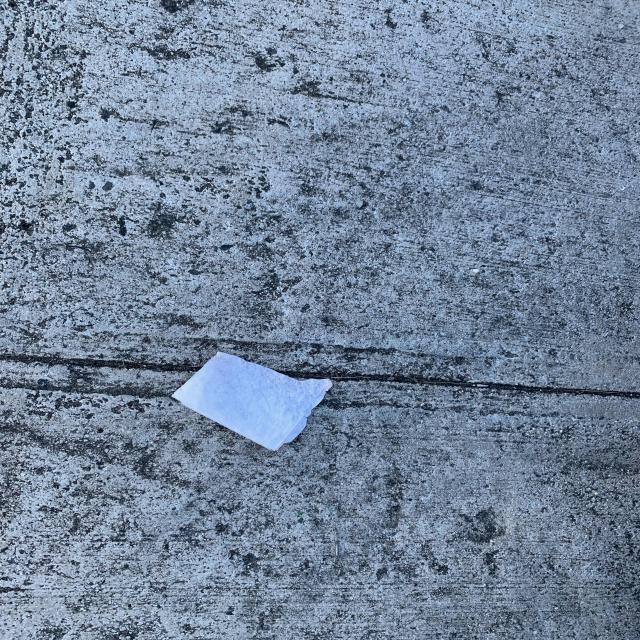litter: (171, 351, 333, 451)
